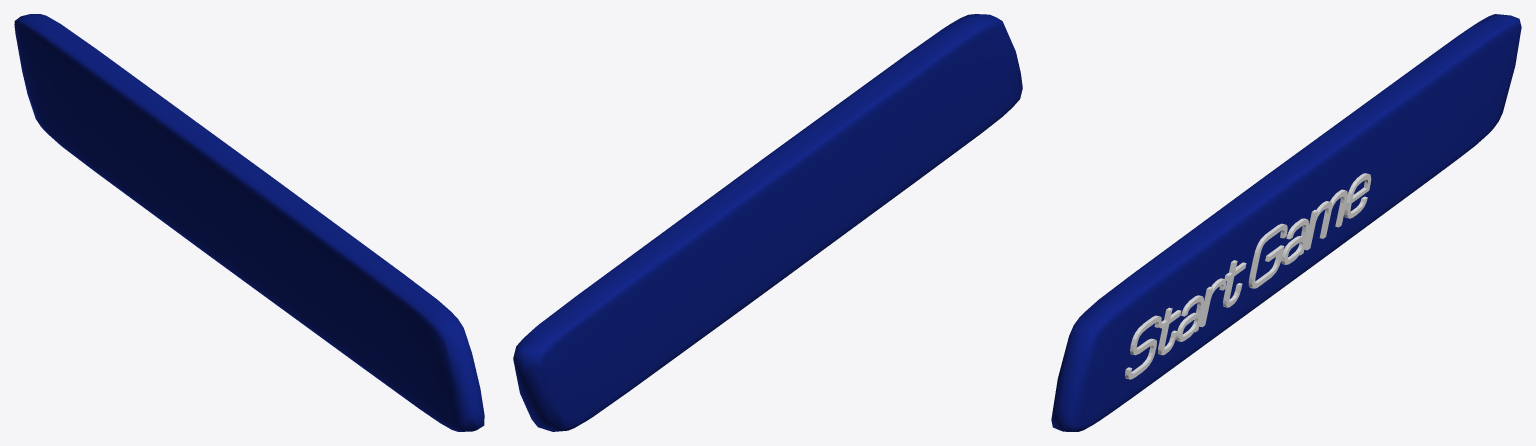
Rendered from StartGame.fbx.
3 views of the same model, side by side, from view 1: azimuth 30°, elevation 25°; view 2: azimuth 150°, elevation 25°; view 3: azimuth 330°, elevation 25° (orthographic). The views are drawn at different scales.
Parts seen in each view (by area): view 1: Button; view 2: Button; view 3: Button, Text_001.
Part boxes in pixels (box(x1,y1,x2,y2)): Button: box(14, 14, 484, 431); Button: box(513, 14, 1022, 431); Button: box(1051, 14, 1521, 431); Text_001: box(1125, 173, 1371, 379).
Size of the model in its own units: 0.5901 by 1.71 by 13.61.
